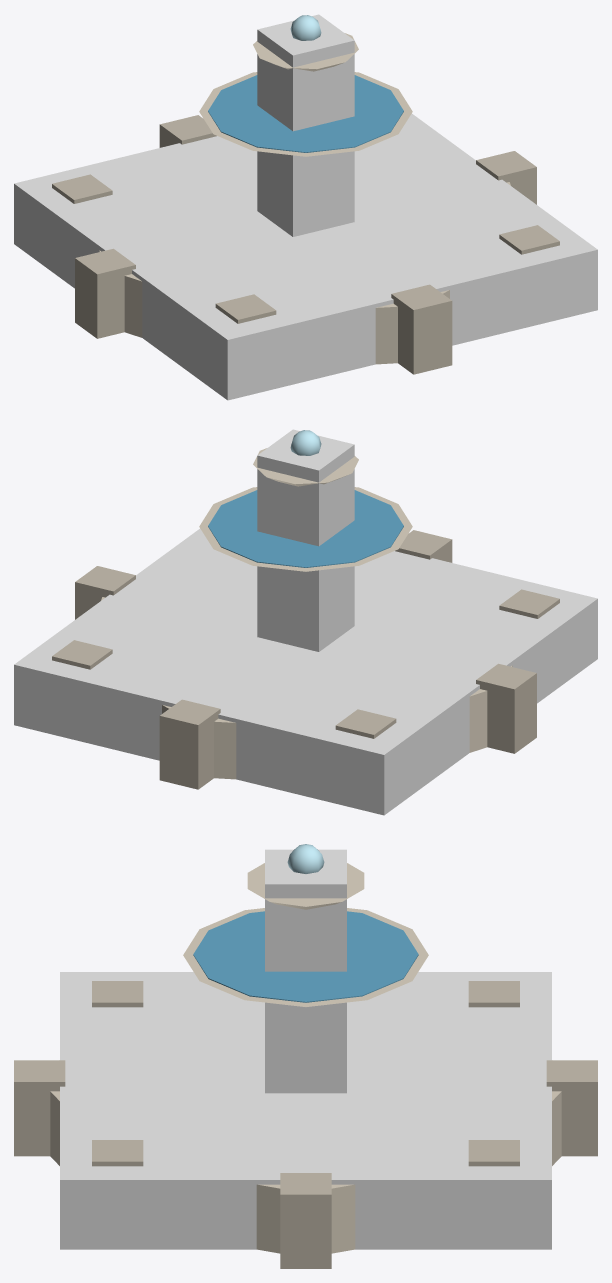
Rendered from chafariz.glb.
The picture shows the model from 3 angles, top to bottom: view 1: azimuth 30°, elevation 25°; view 2: azimuth 150°, elevation 25°; view 3: azimuth 270°, elevation 25°; orthographic projection. The views are drawn at different scales.
Visible parts, largest first — view 1: COL_0, chafariz_Malla, COL_1; view 2: COL_0, chafariz_Malla, COL_1; view 3: COL_0, chafariz_Malla, COL_1.
Part boxes in pixels (left/top/right/bottom): COL_0: left=14, top=113, right=597, bottom=400; chafariz_Malla: left=52, top=15, right=559, bottom=374; COL_1: left=257, top=14, right=354, bottom=236; COL_0: left=14, top=528, right=597, bottom=815; chafariz_Malla: left=52, top=430, right=559, bottom=789; COL_1: left=257, top=429, right=354, bottom=651; COL_0: left=60, top=972, right=551, bottom=1249; chafariz_Malla: left=14, top=844, right=597, bottom=1268; COL_1: left=265, top=849, right=346, bottom=1093.
Bounding box in the file's own units: 5.7 × 3.23 × 5.7.
